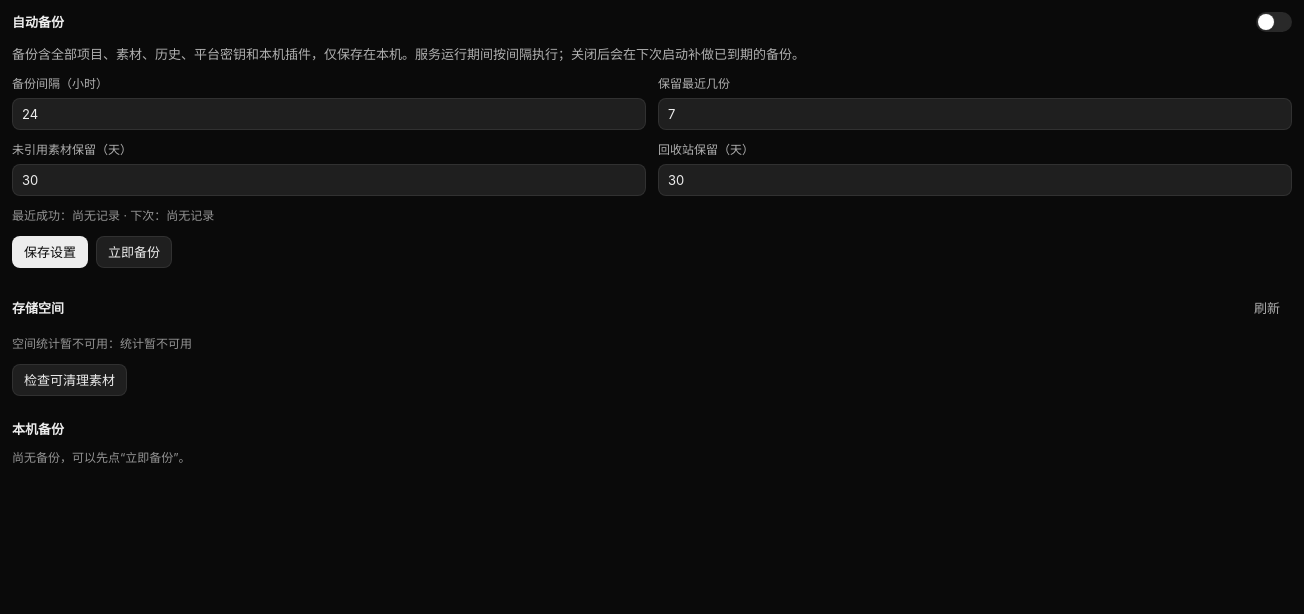
数据维护的清理交互 › 空间统计读取失败不影响其它分区，单独提示并可刷新
The width and height of the screenshot is (1304, 614).
Expected: the text "空间统计暂不可用：统计暂不可用" is shown, [12,336,192,351]
# 维护设置仍然可用
Replace the text in the number field labelled "备份间隔（小时）" with "30": (329, 114) [12,98,646,130]
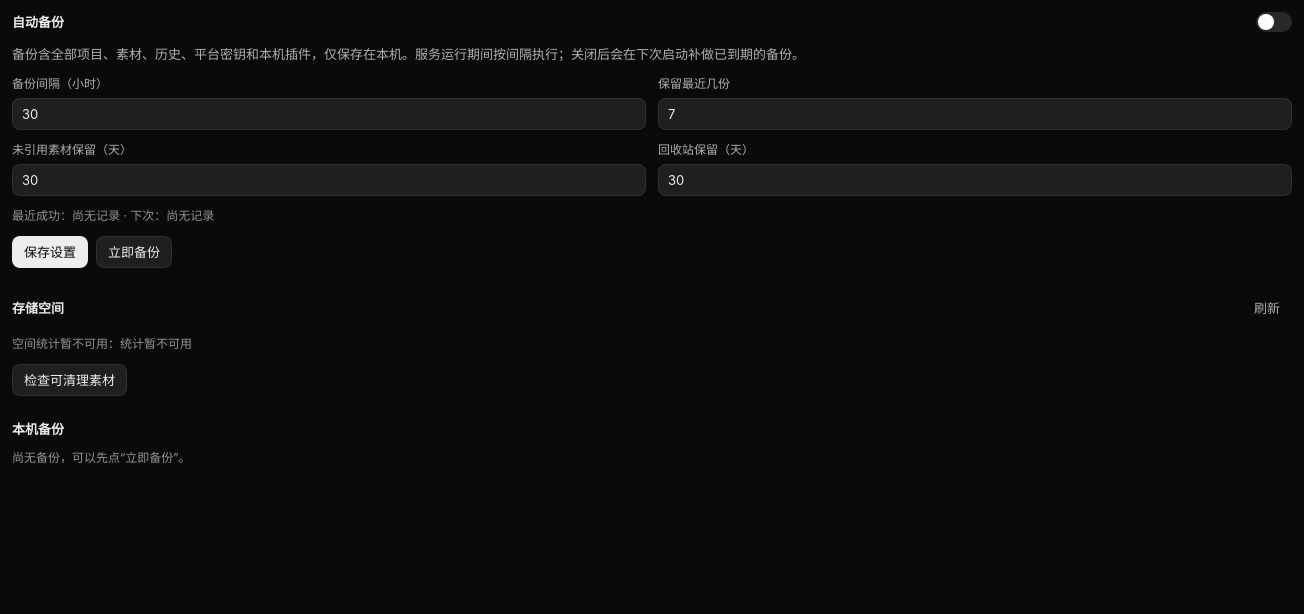
Click the button "刷新": (1267, 308) [1242,292,1292,324]
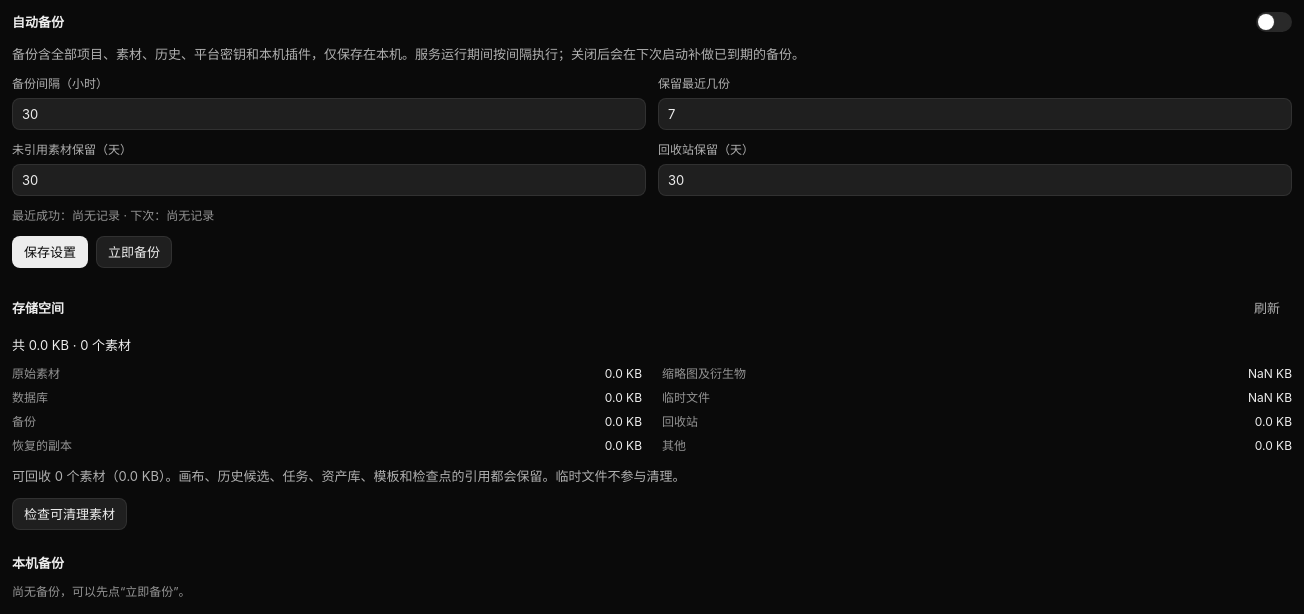
Expected: the text "空间统计暂不可用" is gone
